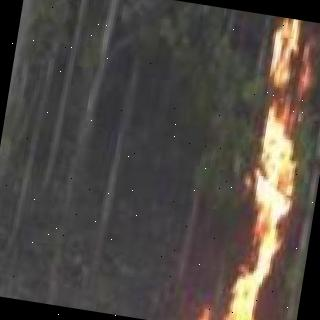fire: (147, 7, 320, 320)
